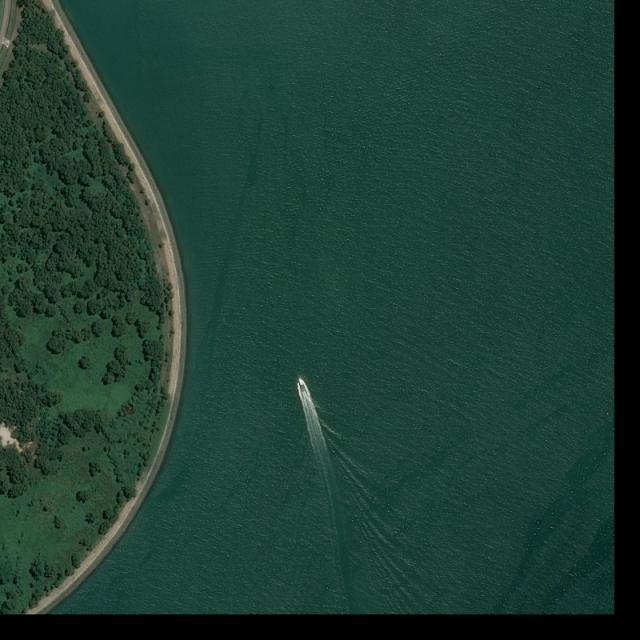ship: (298, 376, 306, 393)
